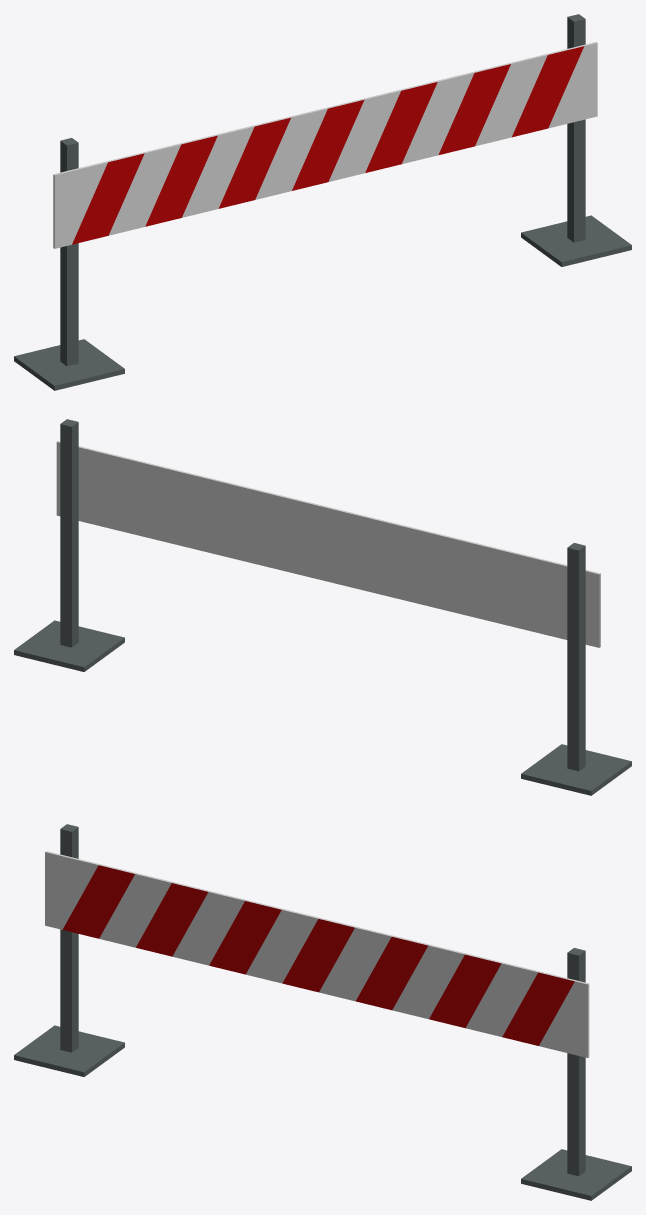
The model's file is barrier-001.fbx.
3 views of the same model, one above another, from view 1: azimuth 30°, elevation 25°; view 2: azimuth 150°, elevation 25°; view 3: azimuth 330°, elevation 25° (orthographic).
Parts seen in each view (by area): view 1: barrier-001; view 2: barrier-001; view 3: barrier-001.
Part boxes in pixels (x1=…): barrier-001: x1=14, y1=14, x2=631, y2=390; barrier-001: x1=14, y1=419, x2=631, y2=795; barrier-001: x1=14, y1=824, x2=631, y2=1200.
Bounding box in the file's own units: 1231 × 460 × 150.
